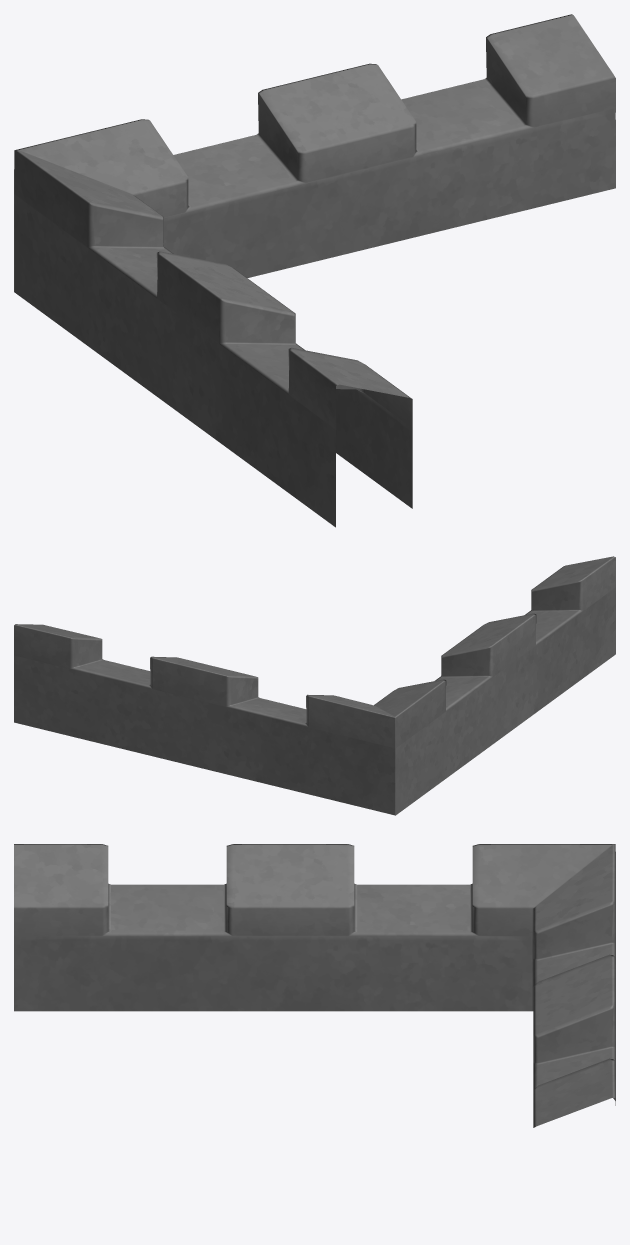
File: BrickRailing_InsideCorner.fbx
The picture shows the model from 3 angles, top to bottom: view 1: azimuth 30°, elevation 25°; view 2: azimuth 150°, elevation 25°; view 3: azimuth 270°, elevation 25°; orthographic projection. The views are drawn at different scales.
Parts seen in each view (by area): view 1: BrickRailing_InsideCorner; view 2: BrickRailing_InsideCorner; view 3: BrickRailing_InsideCorner.
Part boxes in pixels (box(x1,y1,x2,y2)): BrickRailing_InsideCorner: box(14, 14, 615, 527); BrickRailing_InsideCorner: box(14, 556, 615, 815); BrickRailing_InsideCorner: box(14, 844, 615, 1127).
Bounding box in the file's own units: 544 × 133 × 544.
Materials: 1 (1 with a texture image).
